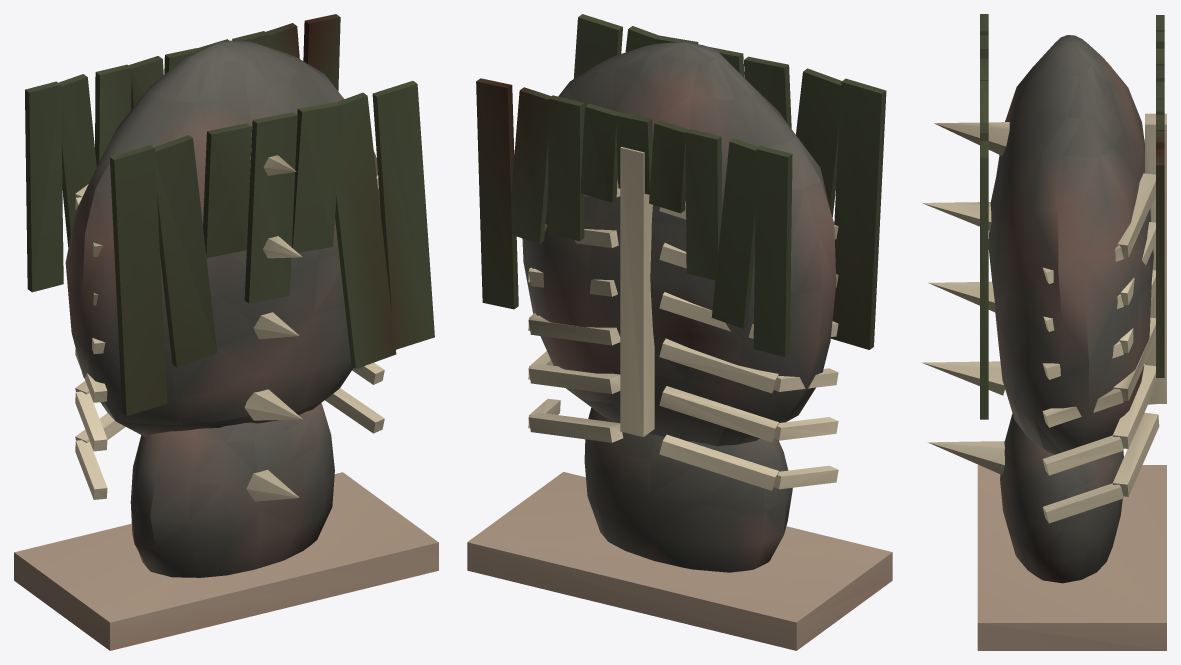
File: HunterMonsterTorso.glb
3 views of the same model, side by side, from view 1: azimuth 30°, elevation 25°; view 2: azimuth 150°, elevation 25°; view 3: azimuth 270°, elevation 25° (orthographic).
Parts seen in each view (by area): view 1: HunterMonsterTorso_shirtHunter, HunterMonsterTorso_monster_skin, HunterMonsterTorso_leather, HunterMonsterTorso_bone; view 2: HunterMonsterTorso_monster_skin, HunterMonsterTorso_shirtHunter, HunterMonsterTorso_leather, HunterMonsterTorso_bone; view 3: HunterMonsterTorso_monster_skin, HunterMonsterTorso_leather, HunterMonsterTorso_bone, HunterMonsterTorso_shirtHunter.
Boxes of the visible parts, <box> form: HunterMonsterTorso_shirtHunter: <box>25,14,434,415</box>; HunterMonsterTorso_monster_skin: <box>65,40,380,577</box>; HunterMonsterTorso_leather: <box>14,472,438,650</box>; HunterMonsterTorso_bone: <box>75,148,384,501</box>; HunterMonsterTorso_monster_skin: <box>522,42,836,572</box>; HunterMonsterTorso_shirtHunter: <box>476,14,886,356</box>; HunterMonsterTorso_leather: <box>467,472,892,650</box>; HunterMonsterTorso_bone: <box>528,75,838,490</box>; HunterMonsterTorso_monster_skin: <box>988,35,1153,583</box>; HunterMonsterTorso_leather: <box>977,465,1166,650</box>; HunterMonsterTorso_bone: <box>922,113,1166,523</box>; HunterMonsterTorso_shirtHunter: <box>980,14,1164,419</box>.
Bounding box in the file's own units: 1.7 × 2.71 × 1.12.
